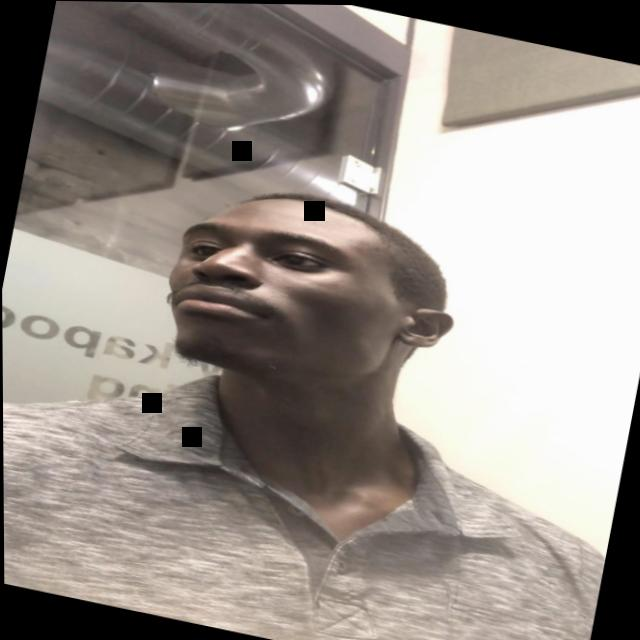NO-Mask: (157, 183, 406, 398)
